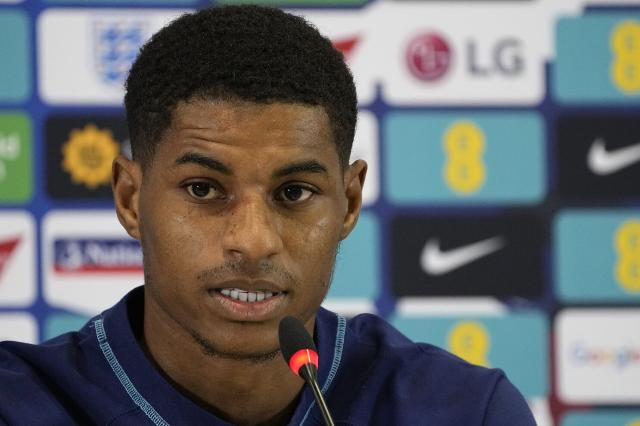forehead: (183, 121, 211, 150)
